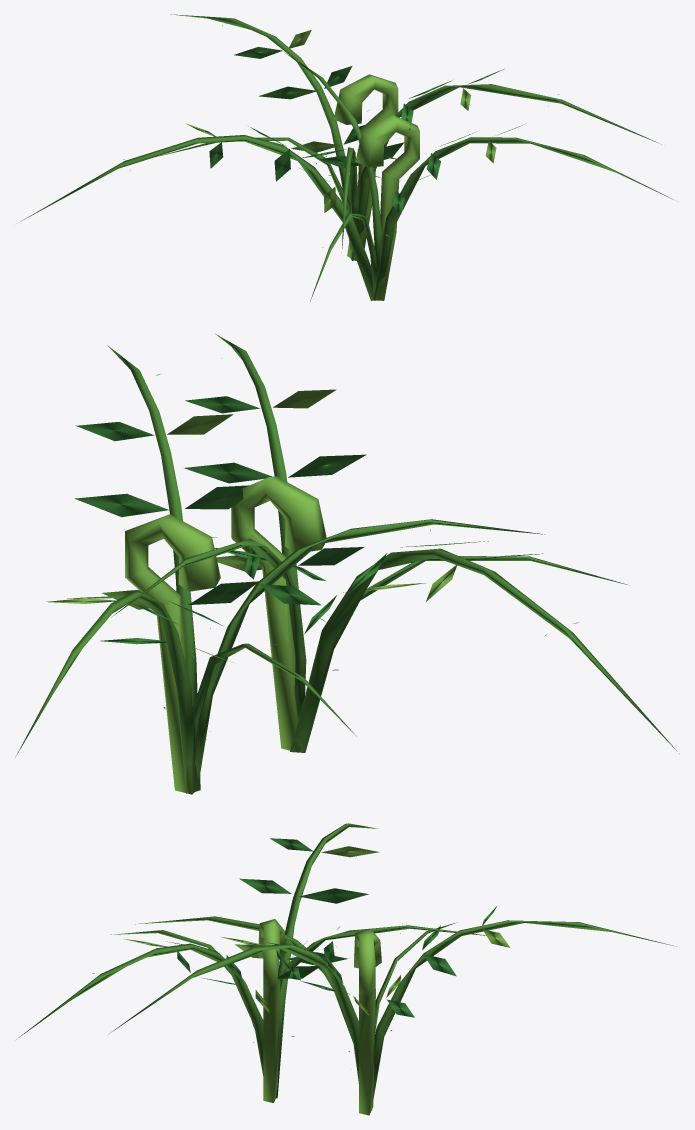
Rendered from canopy_gc_fernlets_a_lod1.glb.
The picture shows the model from 3 angles, top to bottom: view 1: azimuth 30°, elevation 25°; view 2: azimuth 150°, elevation 25°; view 3: azimuth 270°, elevation 25°; orthographic projection. The views are drawn at different scales.
Visible parts, largest first — view 1: canopy_gc_fernlets_a.001; view 2: canopy_gc_fernlets_a.001; view 3: canopy_gc_fernlets_a.001.
Part boxes in pixels (left/top/right/bottom): canopy_gc_fernlets_a.001: left=17, top=14, right=673, bottom=301; canopy_gc_fernlets_a.001: left=15, top=334, right=679, bottom=794; canopy_gc_fernlets_a.001: left=16, top=823, right=676, bottom=1115.
Bounding box in the file's own units: 3.98 × 1.45 × 4.31.
